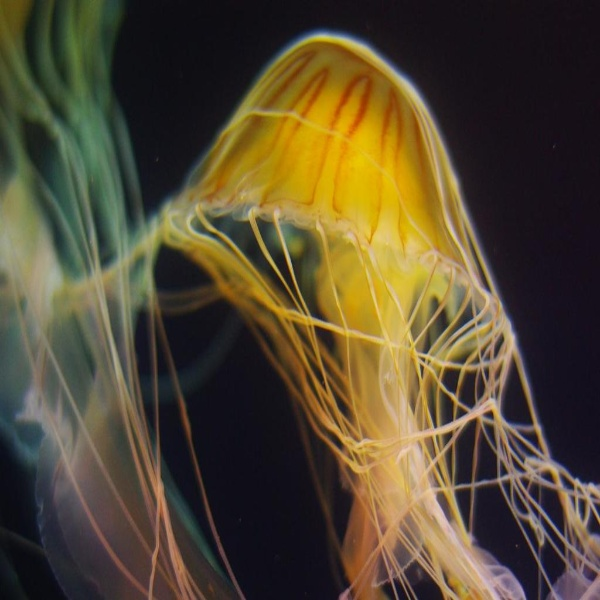Jellyfish: (0, 22, 585, 598)
